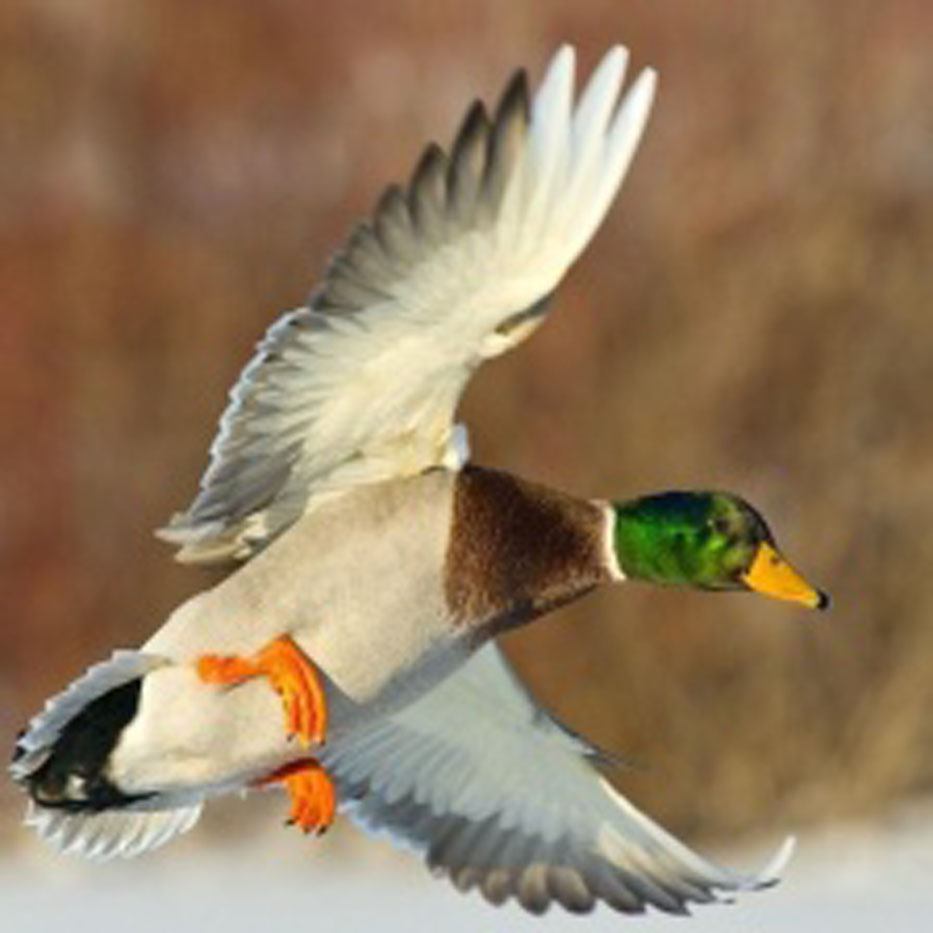Mencari Makan di Lumpur: (733, 534, 844, 614)
